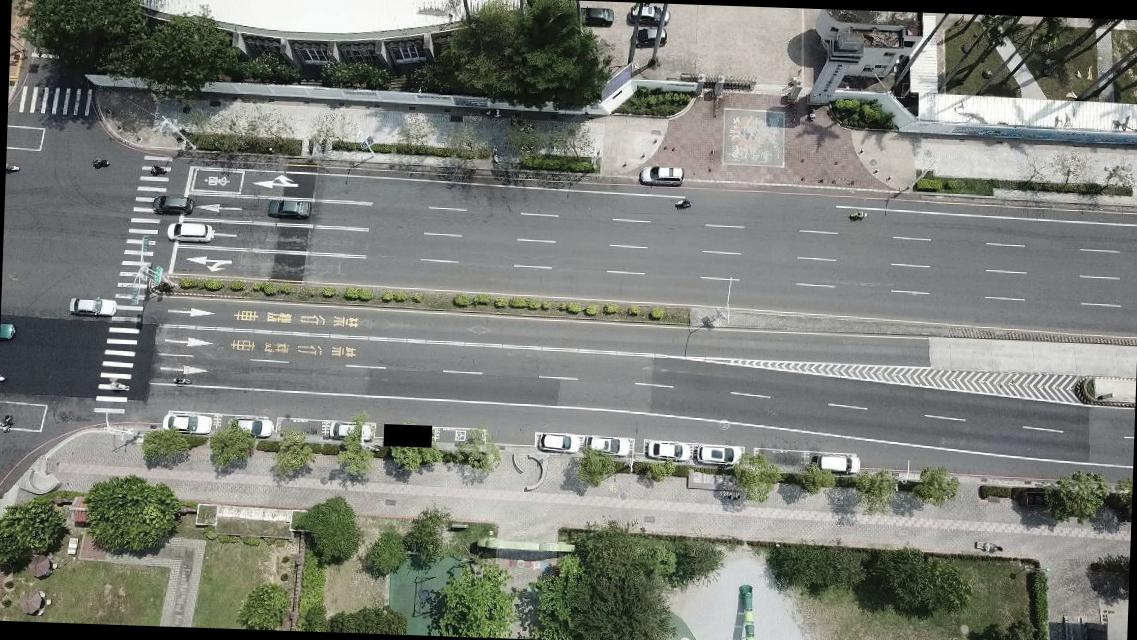vehicle: (67, 294, 118, 316), (166, 220, 212, 242), (815, 452, 860, 474), (626, 3, 669, 26), (535, 432, 580, 452), (697, 446, 741, 466), (630, 24, 668, 47), (164, 414, 208, 432), (645, 440, 688, 458), (575, 8, 618, 26), (328, 422, 370, 440), (588, 438, 627, 457), (640, 166, 681, 183), (152, 193, 190, 210), (231, 420, 271, 436), (268, 202, 309, 216), (0, 320, 17, 341)
